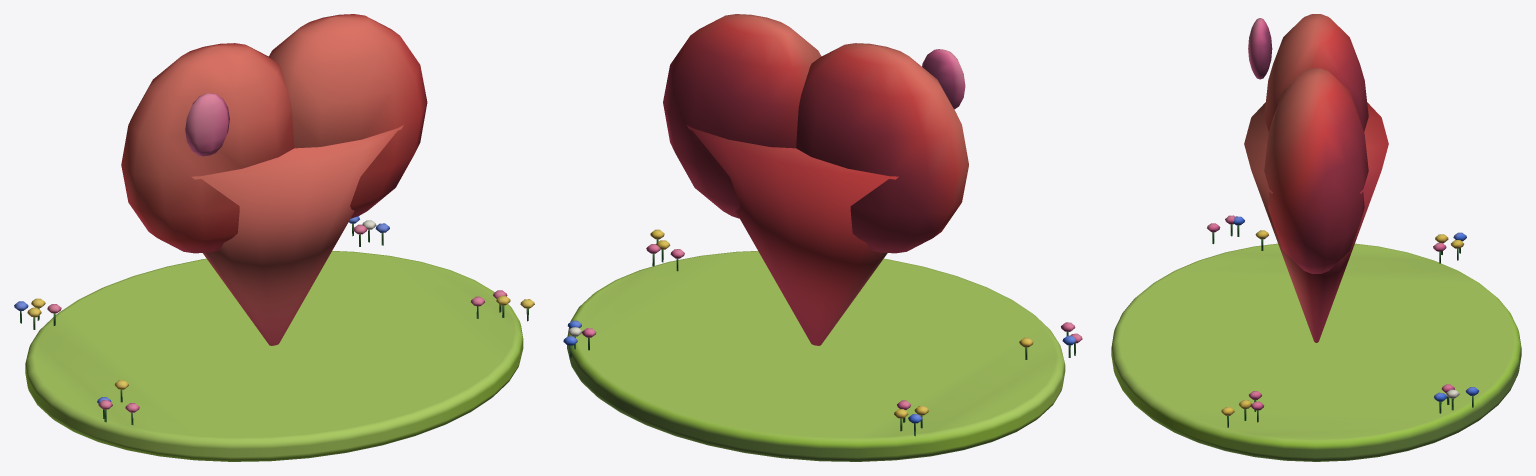
File: love.glb
The picture shows the model from 3 angles, left to right: view 1: azimuth 30°, elevation 25°; view 2: azimuth 150°, elevation 25°; view 3: azimuth 270°, elevation 25°; orthographic projection. The views are drawn at different scales.
Visible parts, largest first — view 1: love; view 2: love; view 3: love.
Boxes of the visible parts, bbox=[...] form: love: bbox=[14, 14, 534, 461]; love: bbox=[563, 14, 1082, 461]; love: bbox=[1111, 14, 1521, 461].
Bounding box in the file's own units: 6 × 4.3 × 5.1.
